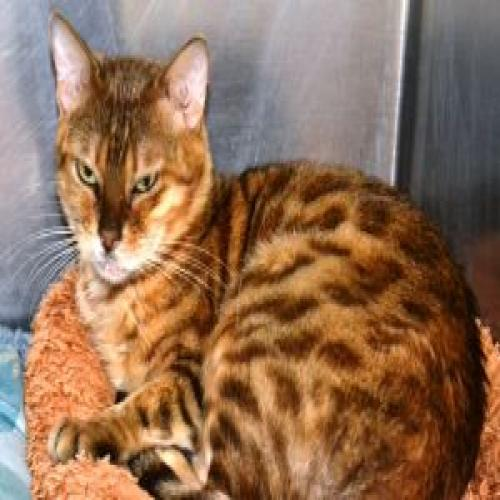cat-face: (38, 4, 226, 295)
